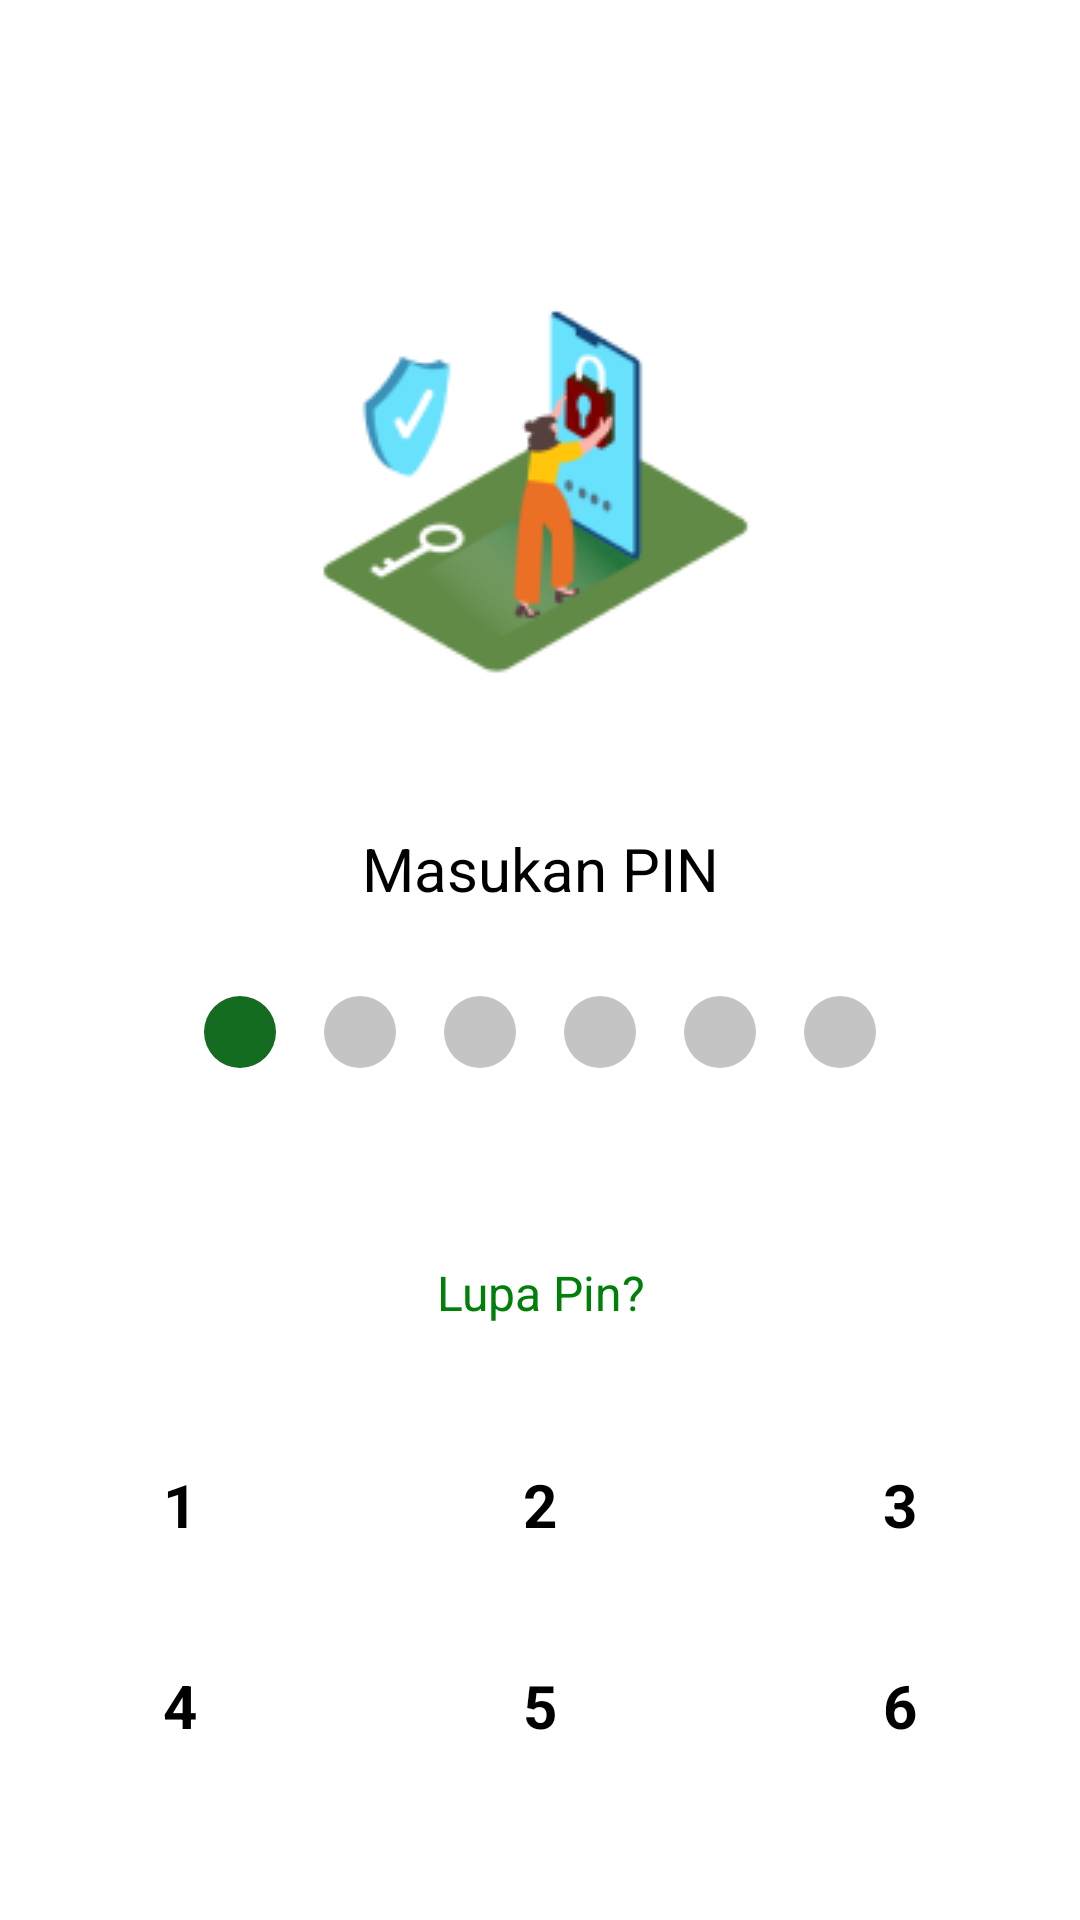

Locate icon controls on the screen. Image size 1080px x 1920px, boxes as (x1, y1, x2, y2).
onboarding indicator: (204, 996, 276, 1068), (324, 996, 396, 1068), (444, 996, 516, 1068), (564, 996, 636, 1068), (684, 996, 756, 1068), (804, 996, 876, 1068)
